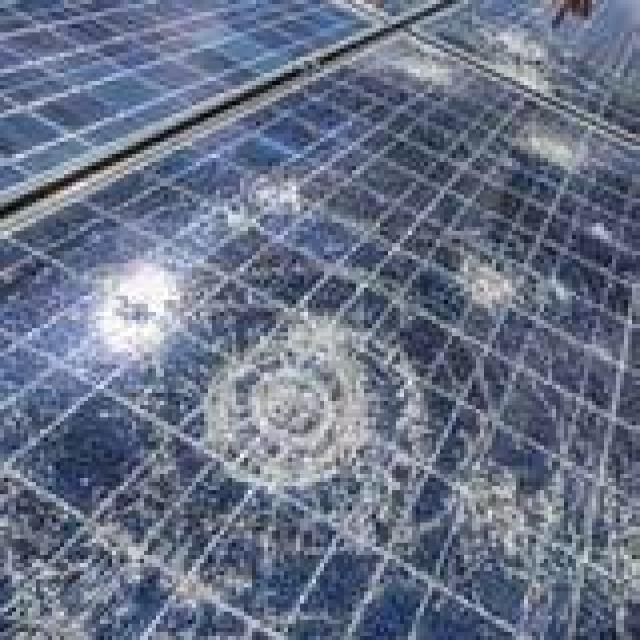faulty: (0, 32, 640, 640)
